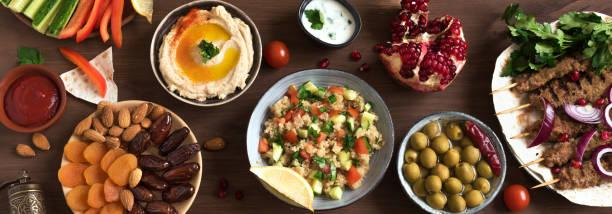Braised Crucian Carp: (490, 9, 608, 210), (246, 68, 392, 211), (57, 101, 203, 214), (150, 1, 259, 108)
